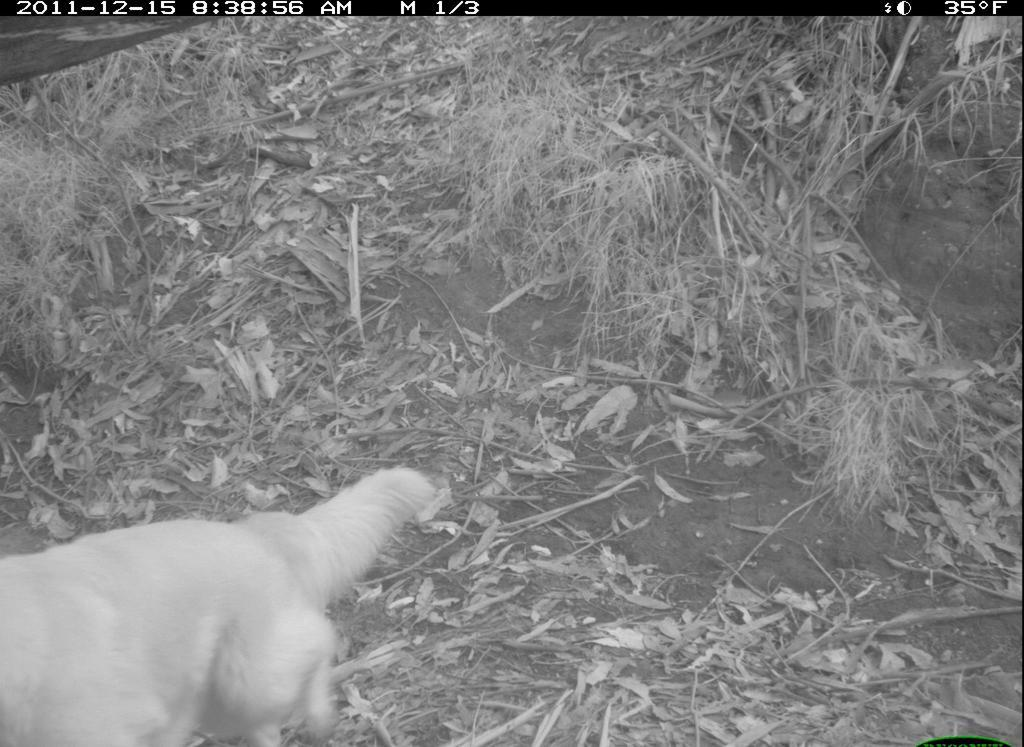dog: (2, 461, 443, 747)
